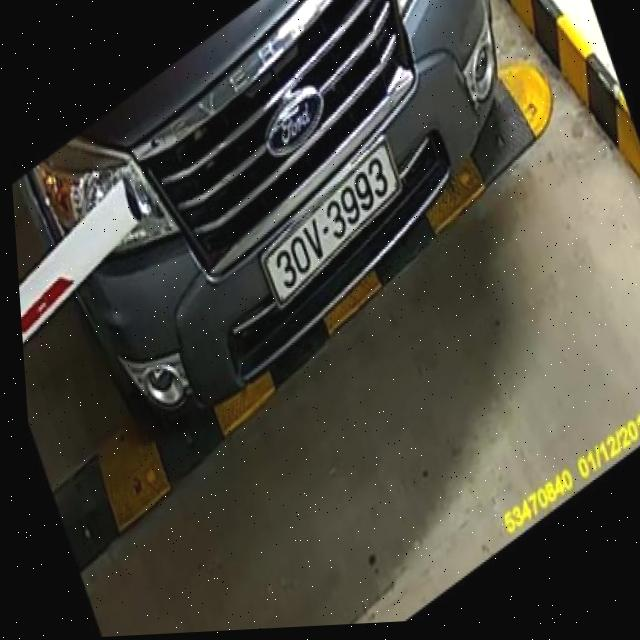car: (9, 0, 523, 434)
plate: (255, 139, 414, 312)
